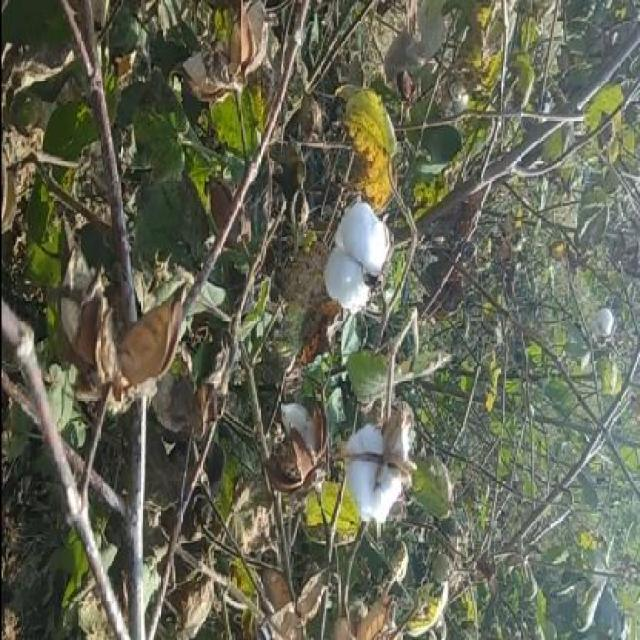cotton_ready: (325, 410, 413, 558), (326, 181, 389, 347)
